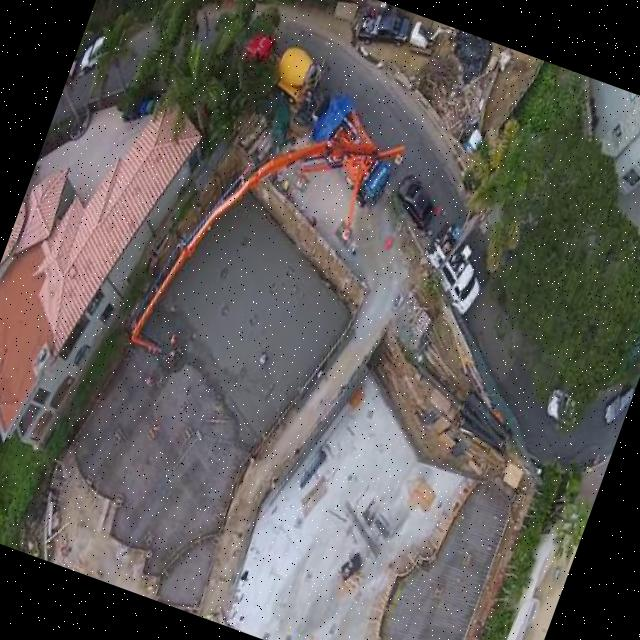Mobile Crane: (122, 64, 415, 413)
